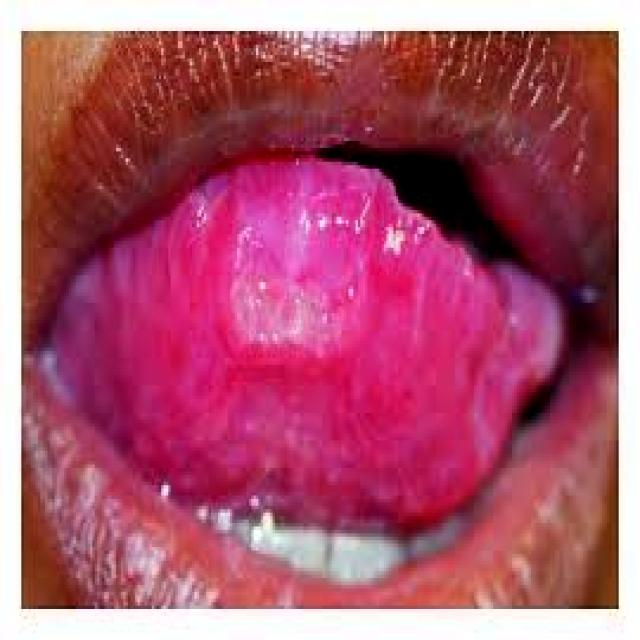ulcer: (224, 224, 348, 361)
